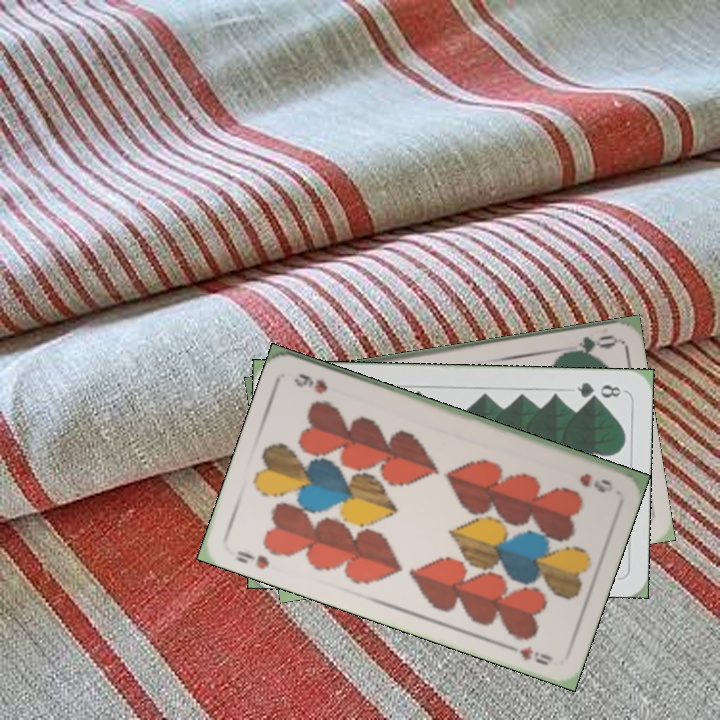G8: (573, 378, 624, 402)
GO: (559, 331, 618, 359)
H9: (575, 469, 616, 496), (232, 546, 272, 572)
